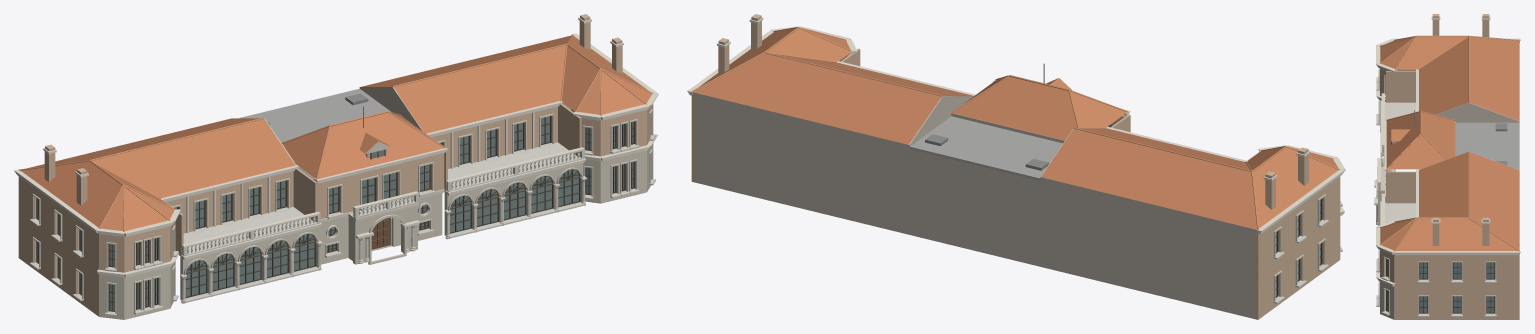
The model's file is jingan-jewish-club-lod.glb.
The picture shows the model from 3 angles, left to right: view 1: azimuth 30°, elevation 25°; view 2: azimuth 150°, elevation 25°; view 3: azimuth 270°, elevation 25°; orthographic projection. The views are drawn at different scales.
Visible parts, largest first — view 1: 原上海犹太人总会南京西路722号南楼; view 2: 原上海犹太人总会南京西路722号南楼; view 3: 原上海犹太人总会南京西路722号南楼.
Part boxes in pixels (x1=…): 原上海犹太人总会南京西路722号南楼: x1=14, y1=14, x2=658, y2=319; 原上海犹太人总会南京西路722号南楼: x1=687, y1=14, x2=1345, y2=319; 原上海犹太人总会南京西路722号南楼: x1=1374, y1=14, x2=1520, y2=319.
Size of the model in its own units: 57.66 by 13.35 by 16.66.
